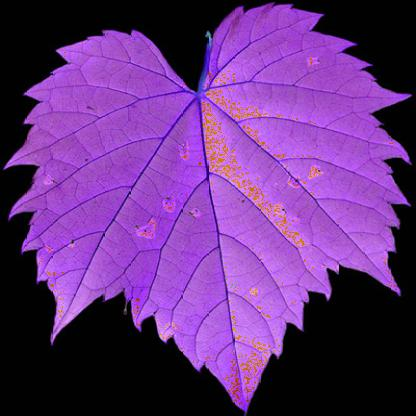grape leaf: (1, 3, 408, 415)
